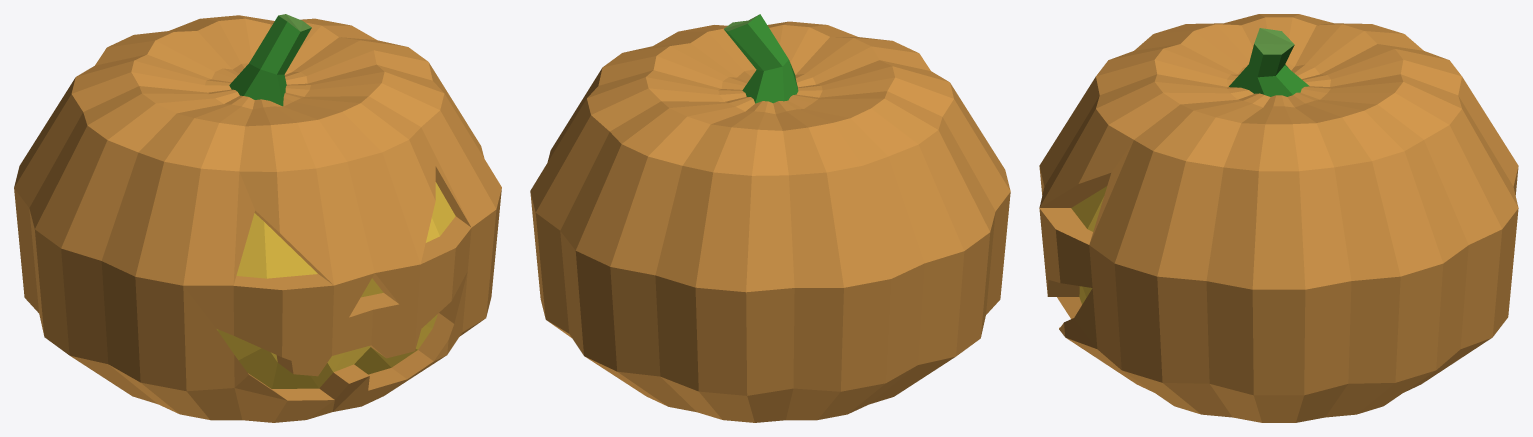
The model's file is pumpkin_1_yellow_mat.fbx.
The picture shows the model from 3 angles, left to right: view 1: azimuth 30°, elevation 25°; view 2: azimuth 150°, elevation 25°; view 3: azimuth 270°, elevation 25°; orthographic projection.
Parts seen in each view (by area): view 1: pumpkin_1_yellow_mat; view 2: pumpkin_1_yellow_mat; view 3: pumpkin_1_yellow_mat.
Boxes of the visible parts, left/top/right/bottom form: pumpkin_1_yellow_mat: left=14, top=14, right=501, bottom=422; pumpkin_1_yellow_mat: left=530, top=14, right=1010, bottom=422; pumpkin_1_yellow_mat: left=1039, top=14, right=1518, bottom=422.
Bounding box in the file's own units: 235 × 181 × 232.
